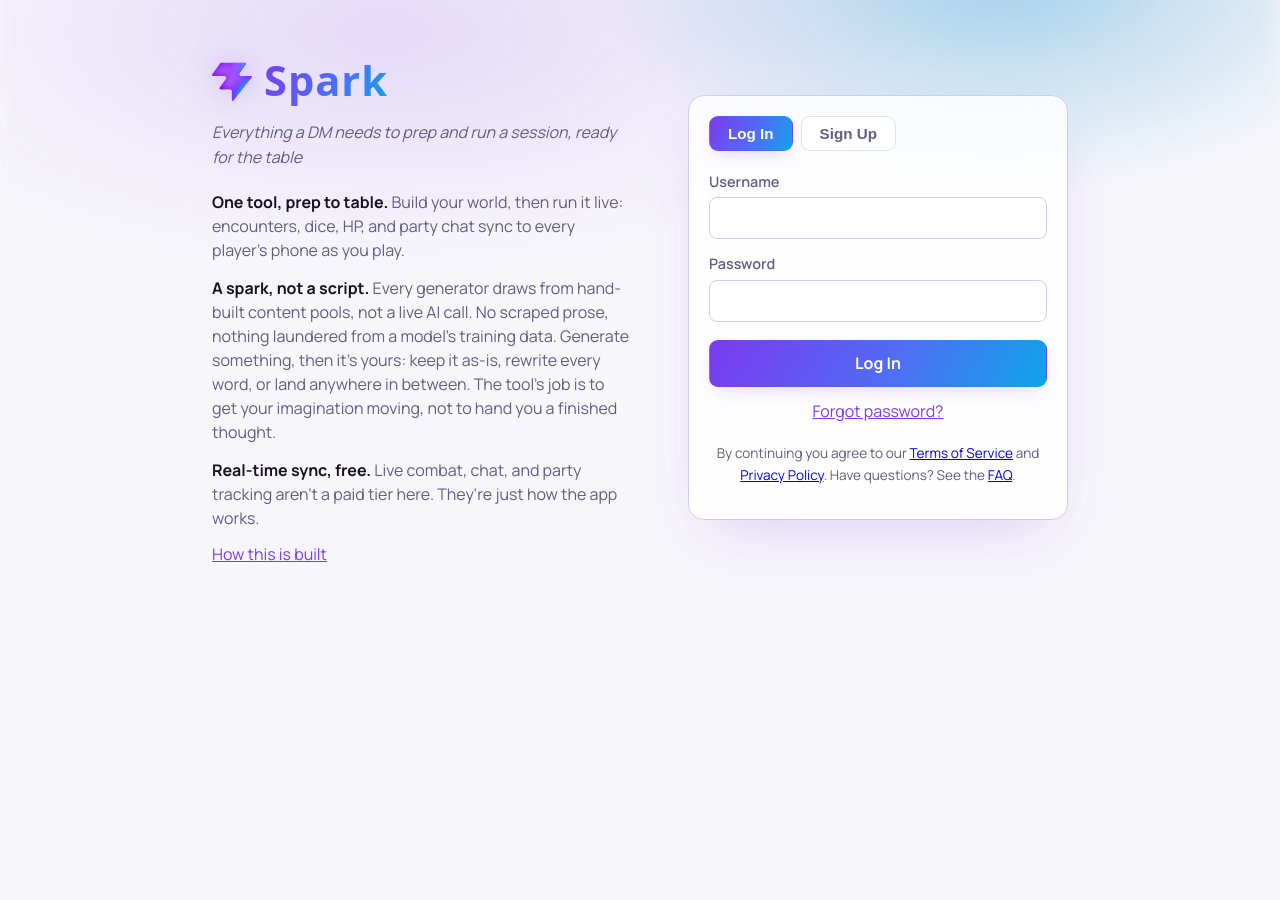
AuthPage › blocks reset submission and shows an error when the confirmation doesn't match
Click the button "Forgot password?". click: (878,411)
box: [812,399,944,424]
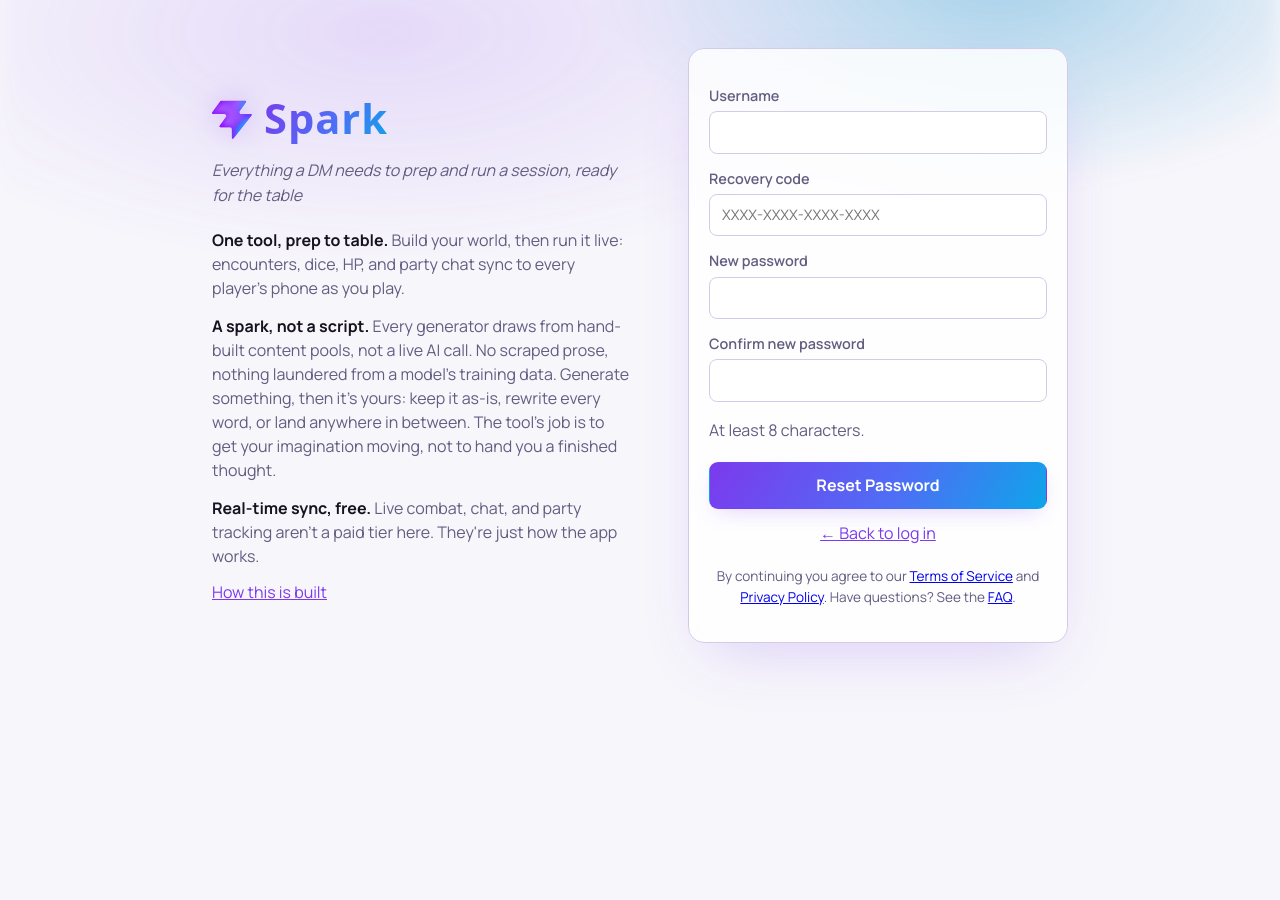
Type "gary" into the field labelled "Username". click: (878,132)
box: [709,111,1047,154]
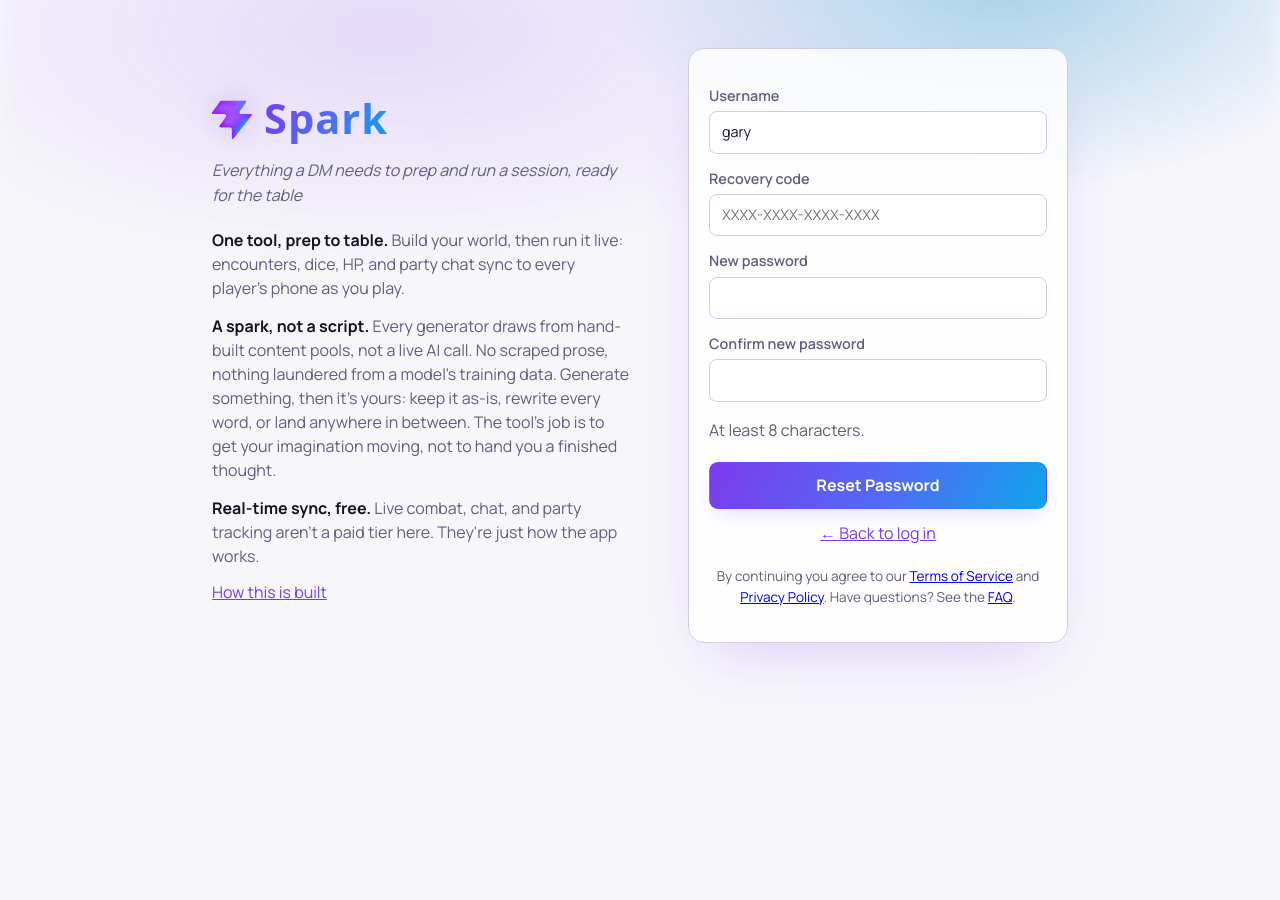
Type "ABCD-EFGH-IJKL-MNOP" into the field labelled "Recovery code". click: (878,215)
box: [709,194,1047,236]
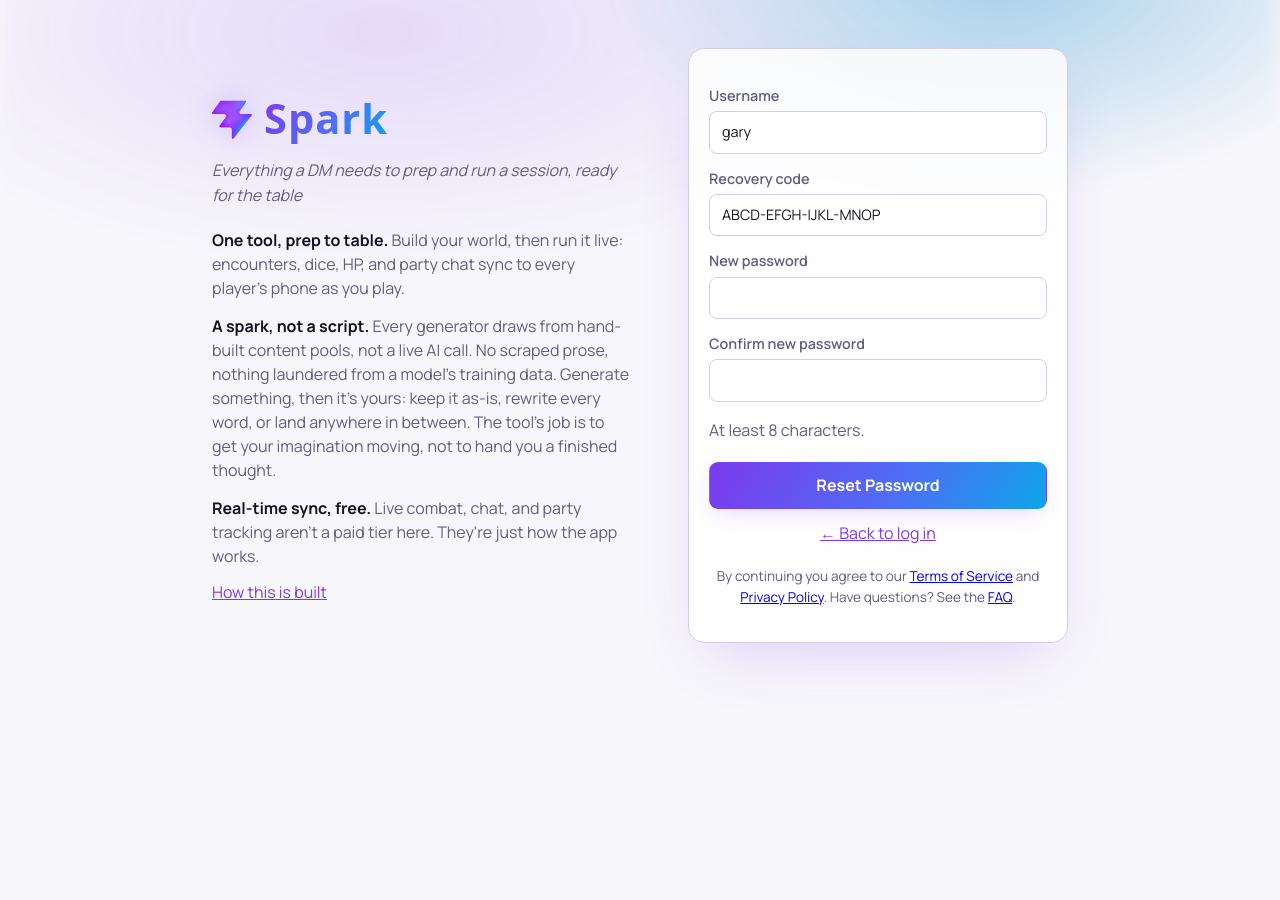
Type "brandnewpass1" into the password field labelled "New password". click: (878,298)
box: [709,277,1047,319]
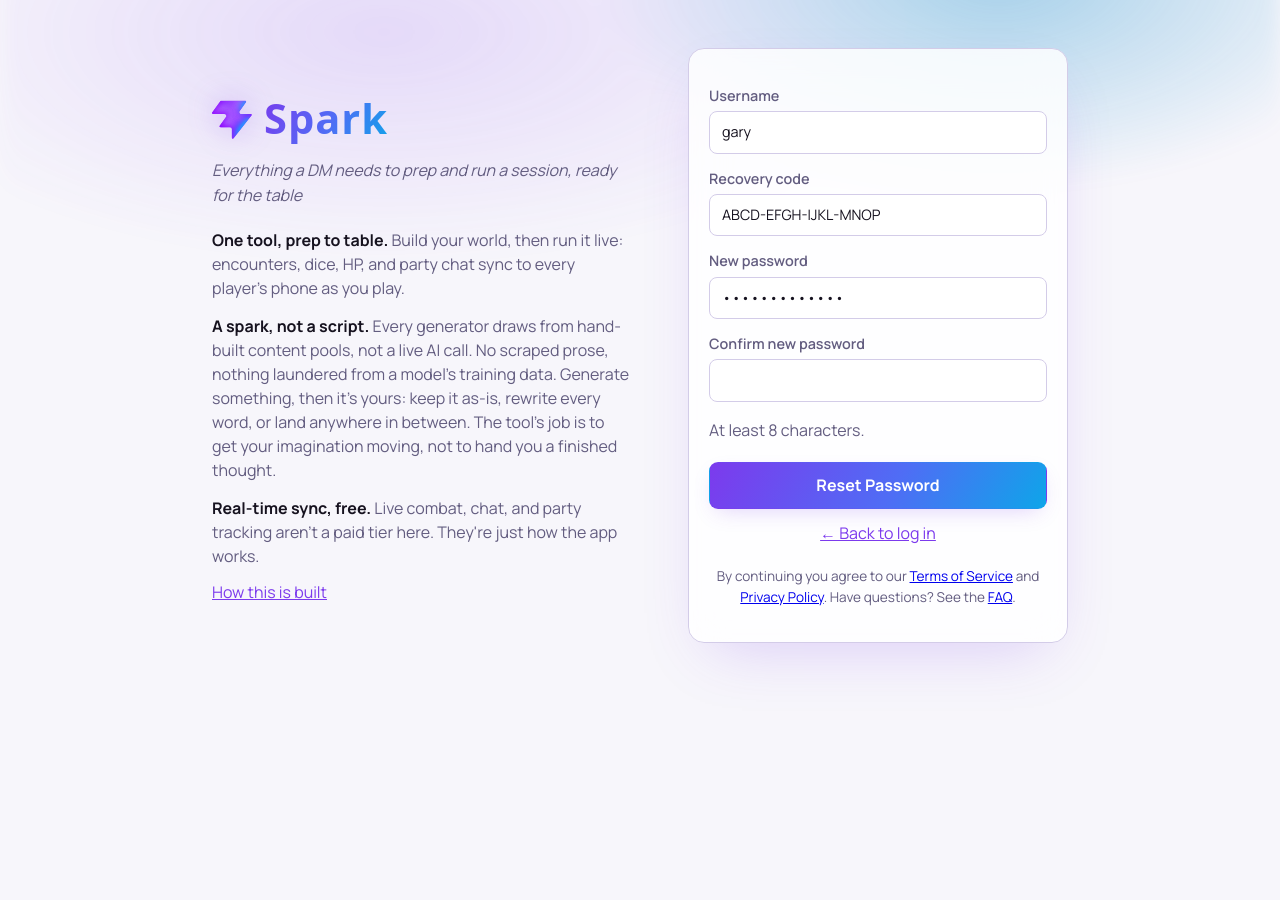
Type "typo" into the password field labelled "Confirm new password". click: (878,380)
box: [709,359,1047,402]
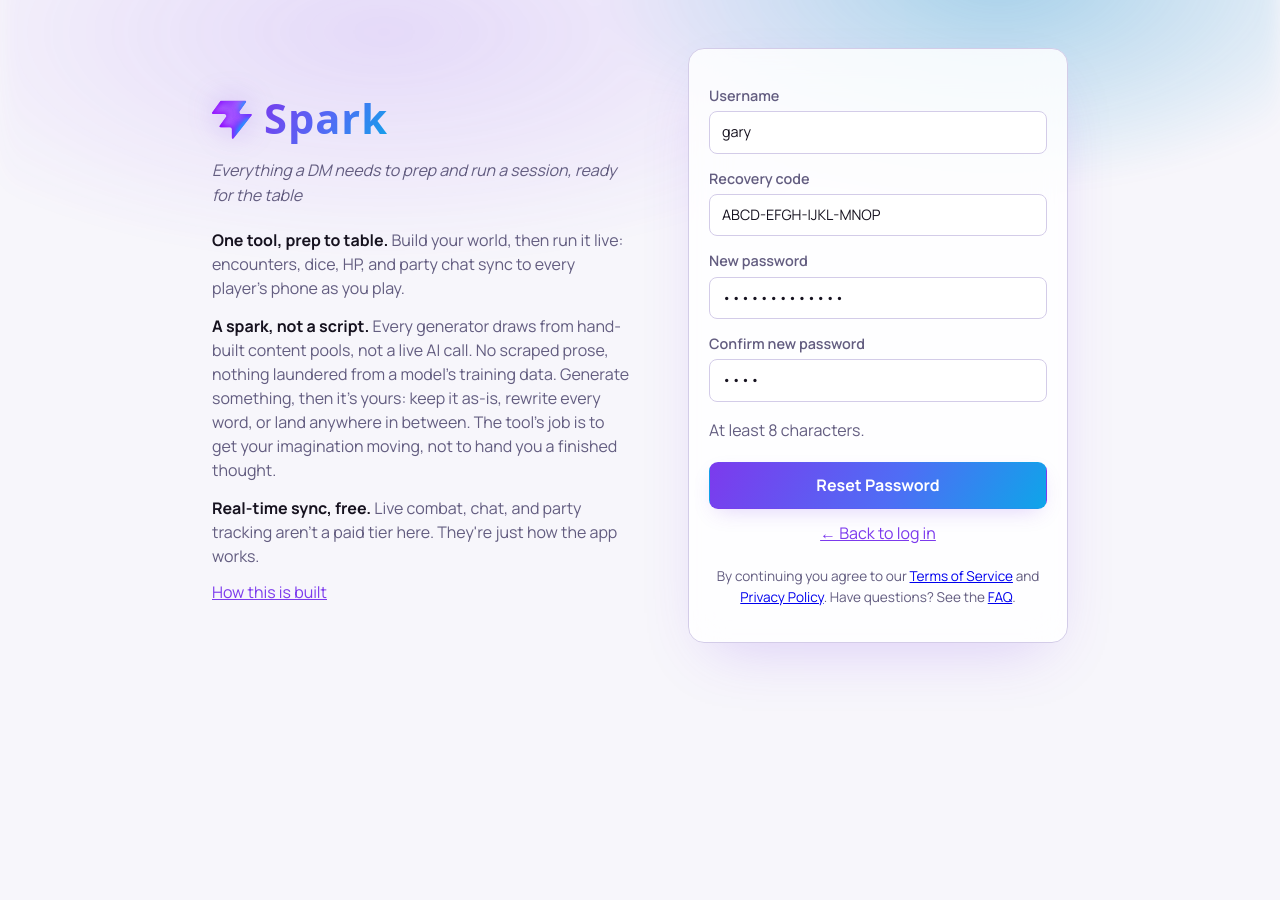
Click the button "Reset Password". click: (878,486)
box: [709,462,1047,509]
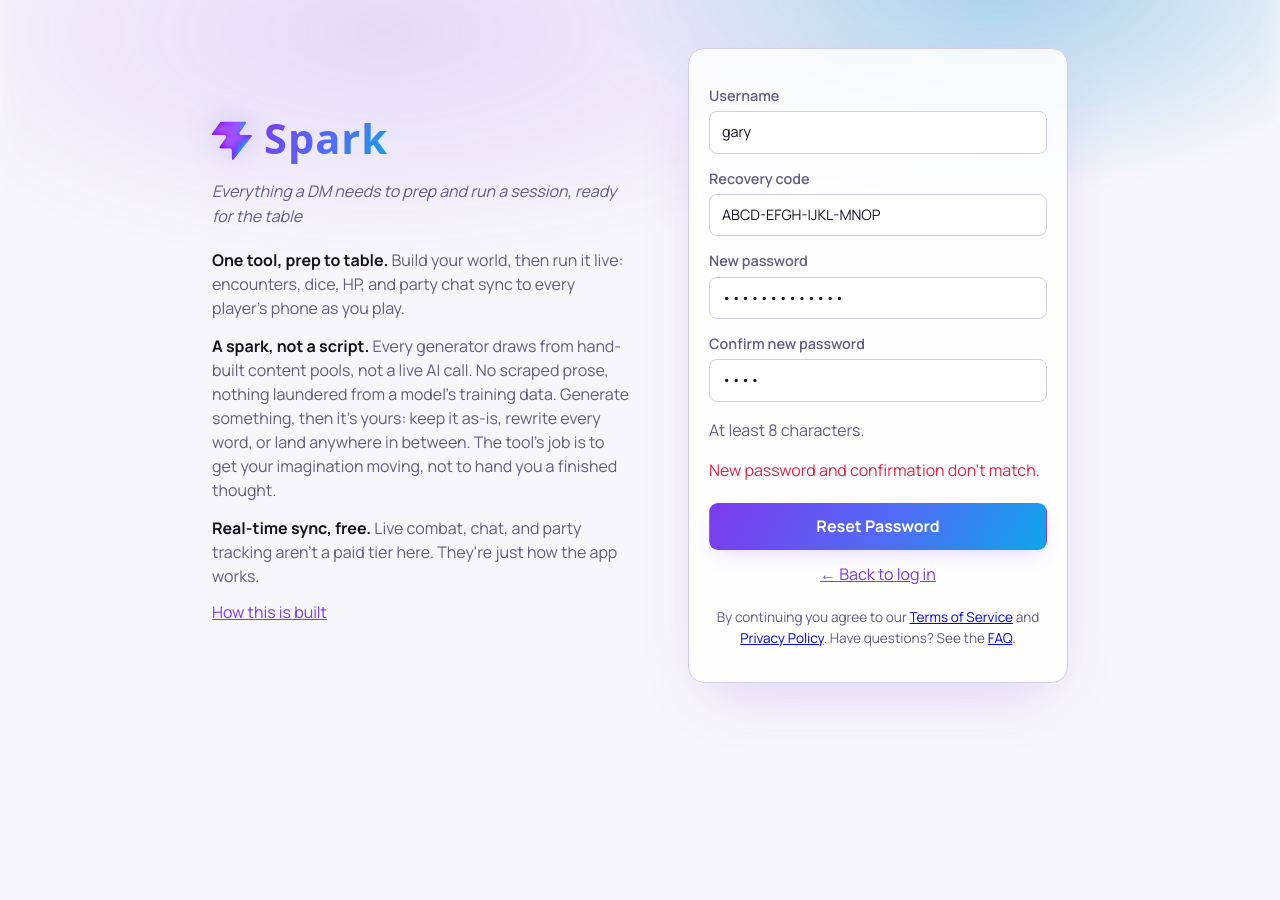
Expected: the text "New password and confirmation don't match." is shown, [709,458,1047,483]
